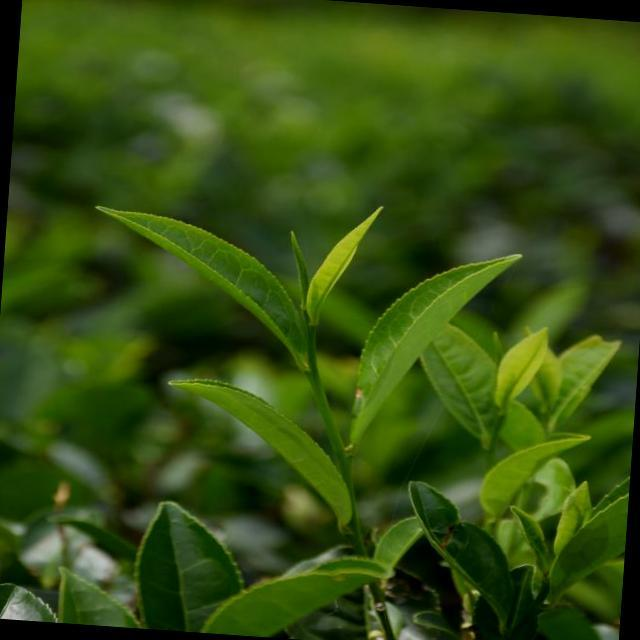Stem: (306, 326, 316, 342)
